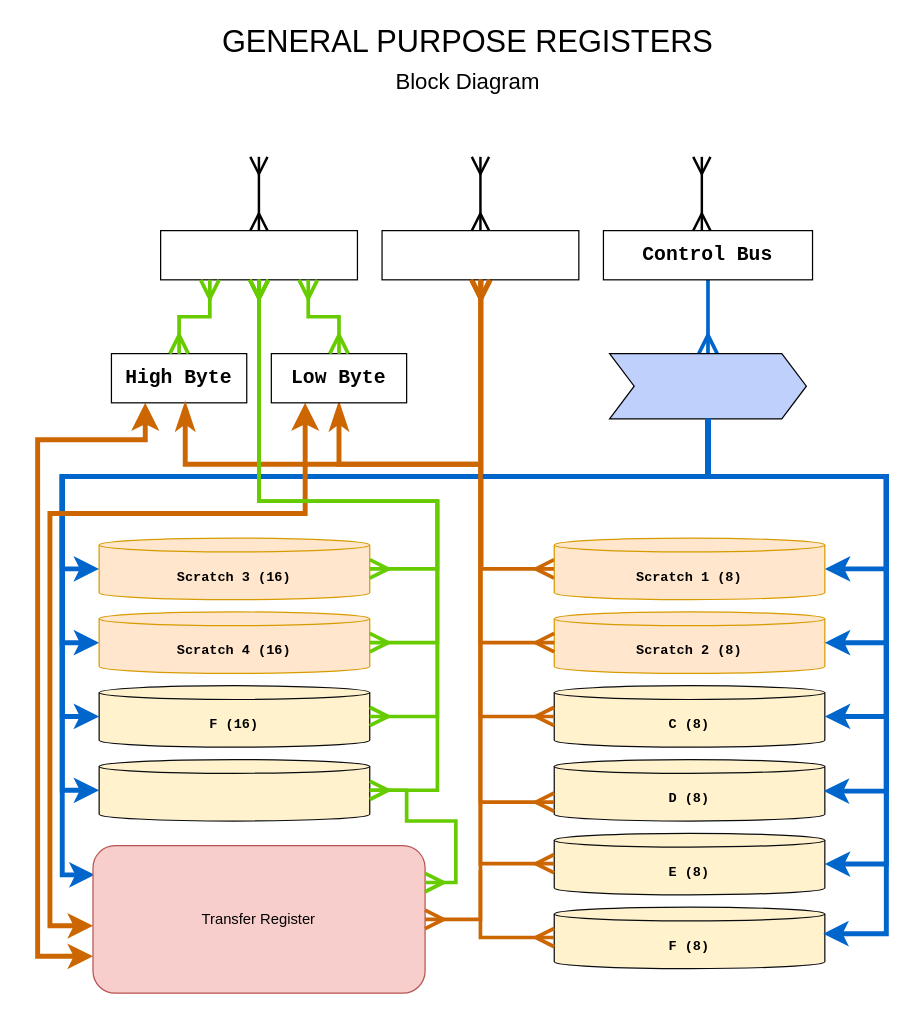
Image size: 923x1015. Some labels were removed from this diagram. The centre of each missing label's shape, as x and y in pixels:
"16bit Data Bus" goes at point 258,254.
"8bit Data Bus" goes at point 480,254.
"Function Select Multiplexer & Controller" goes at point 707,385.
"G (16)" goes at point 234,789.
